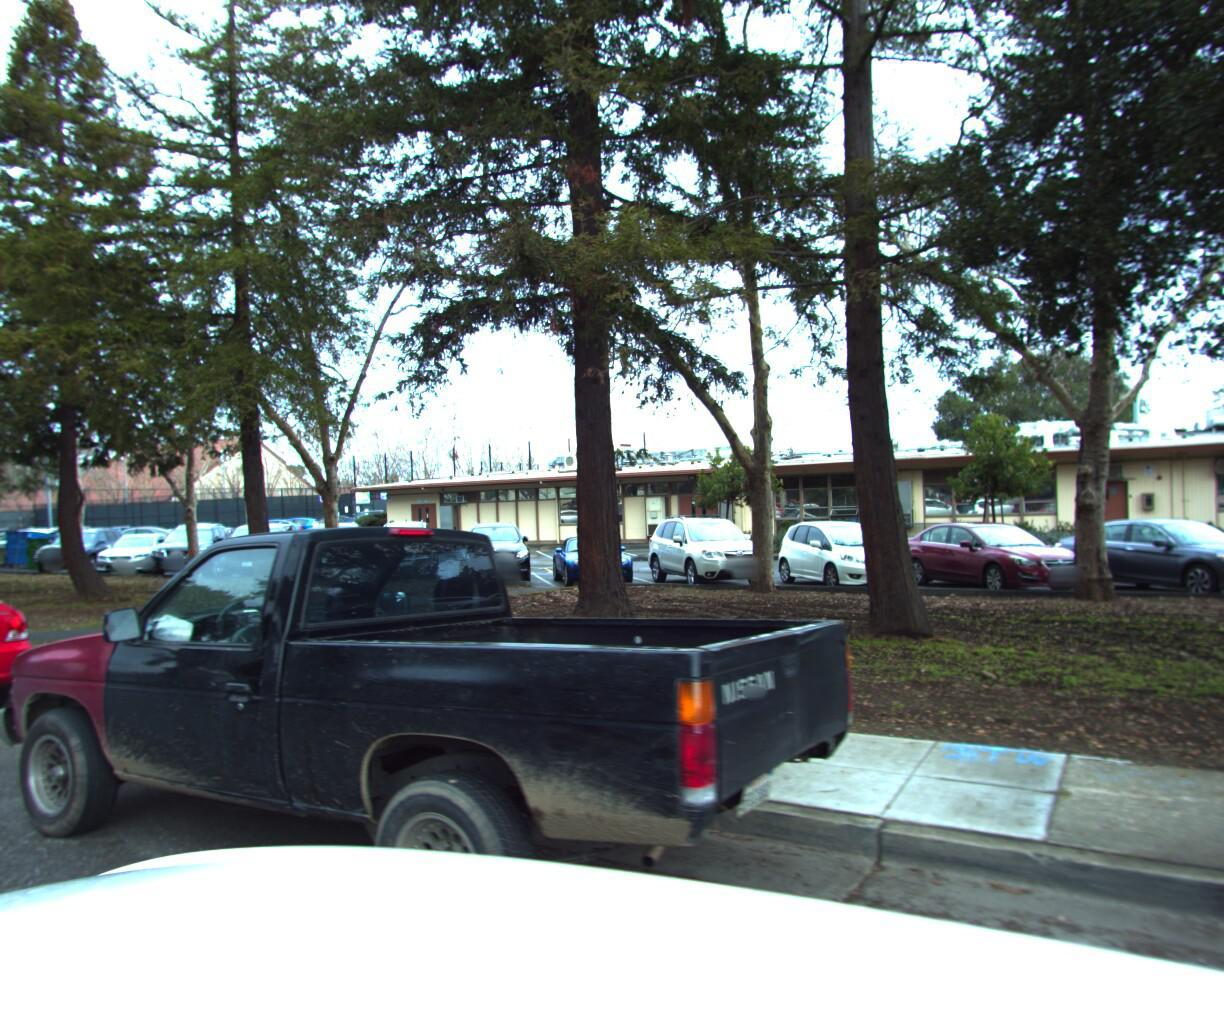car: (0, 507, 877, 1024), (0, 547, 75, 786)
